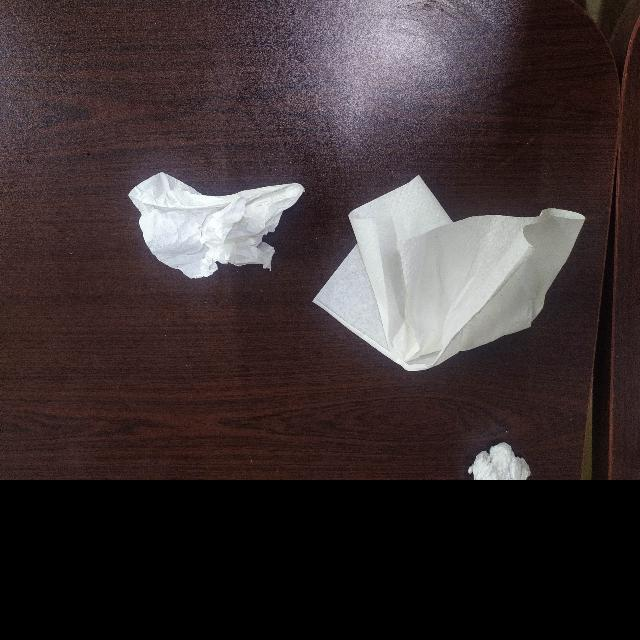kitchen paper: (312, 169, 598, 376), (128, 166, 308, 285)
